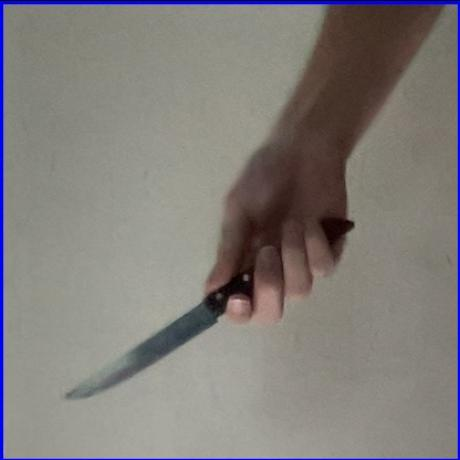1: (200, 2, 445, 327)
weapon: (62, 213, 358, 404)
